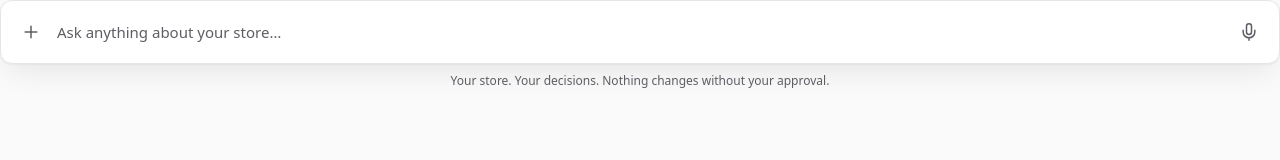
Test: the composer › says when the microphone is not available
Click the button named "Ask by voice" at (1249, 32), box left=1239, top=22, right=1259, bottom=42
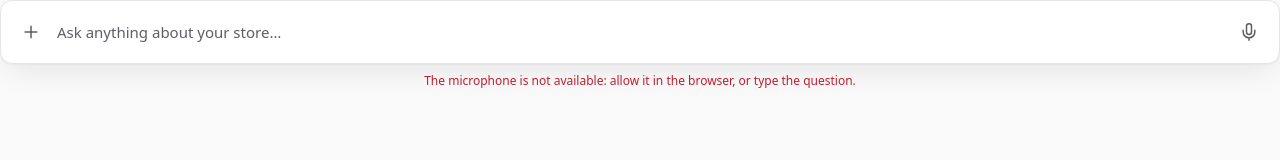
Expected: the field is shown, left=57, top=20, right=1223, bottom=44
Expected: the message shows "The microphone is not available", left=424, top=72, right=856, bottom=89
